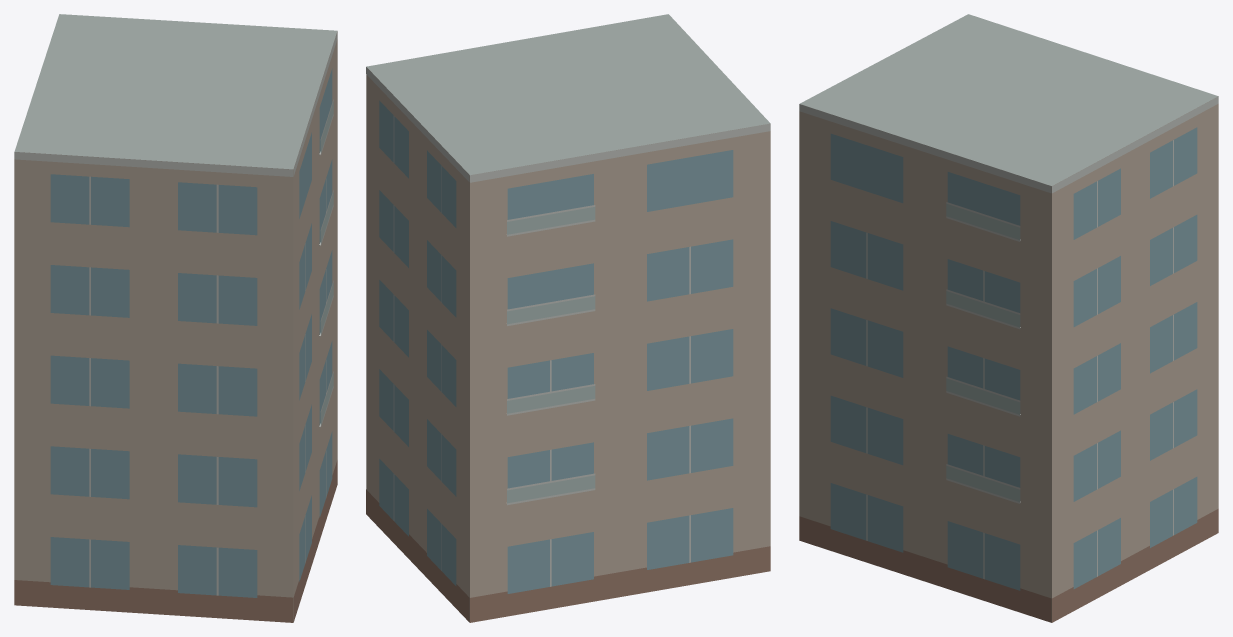
Rendered from survey-upis-32641688.glb.
The picture shows the model from 3 angles, left to right: view 1: azimuth 30°, elevation 25°; view 2: azimuth 150°, elevation 25°; view 3: azimuth 270°, elevation 25°; orthographic projection. The views are drawn at different scales.
Visible parts, largest first — view 1: survey-upis-32641688.tmp; view 2: survey-upis-32641688.tmp; view 3: survey-upis-32641688.tmp.
Part boxes in pixels (box(x1,y1,x2,y2)): survey-upis-32641688.tmp: box(14, 14, 337, 622); survey-upis-32641688.tmp: box(366, 14, 770, 622); survey-upis-32641688.tmp: box(799, 14, 1218, 622).
Bounding box in the file's own units: 12.27 × 14.5 × 12.63.
